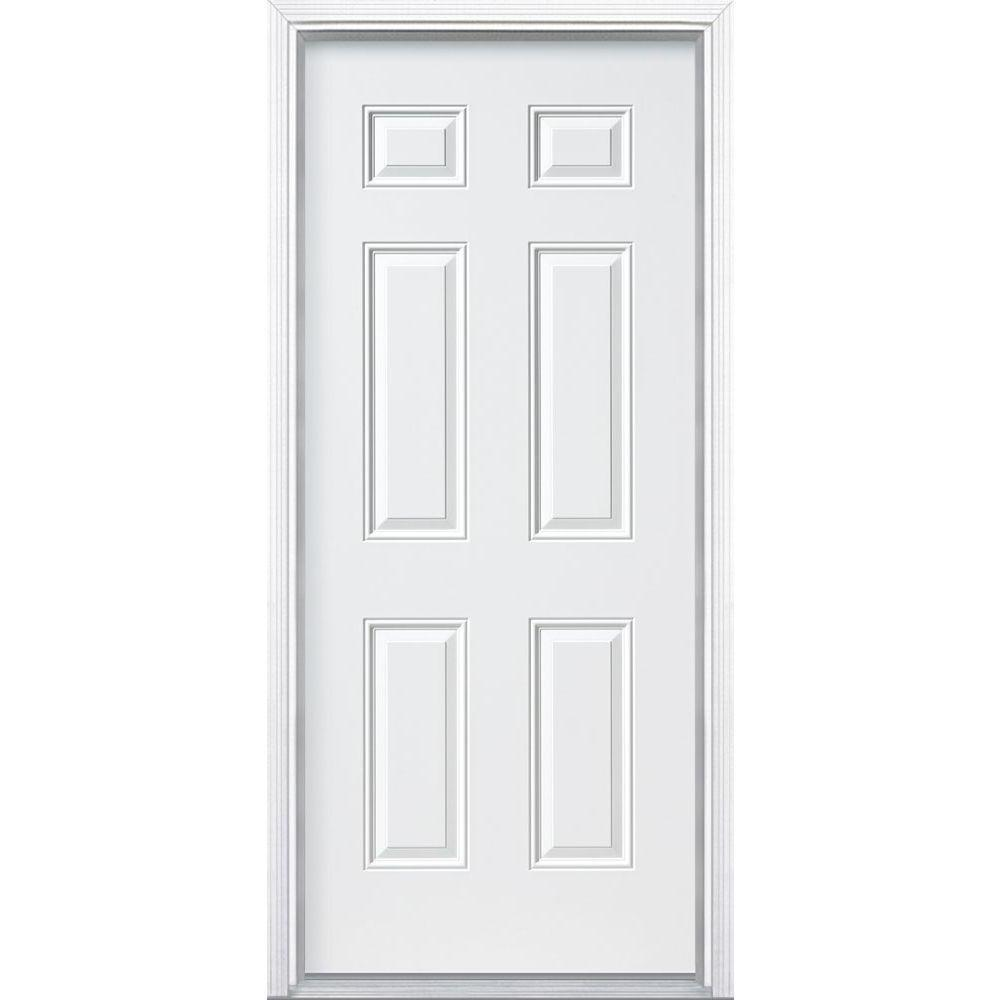door: (276, 11, 734, 951)
